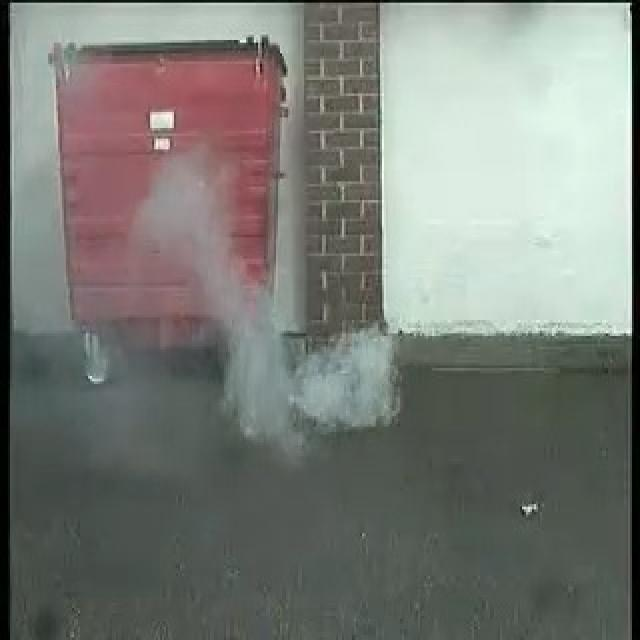smoke: (182, 270, 400, 432)
